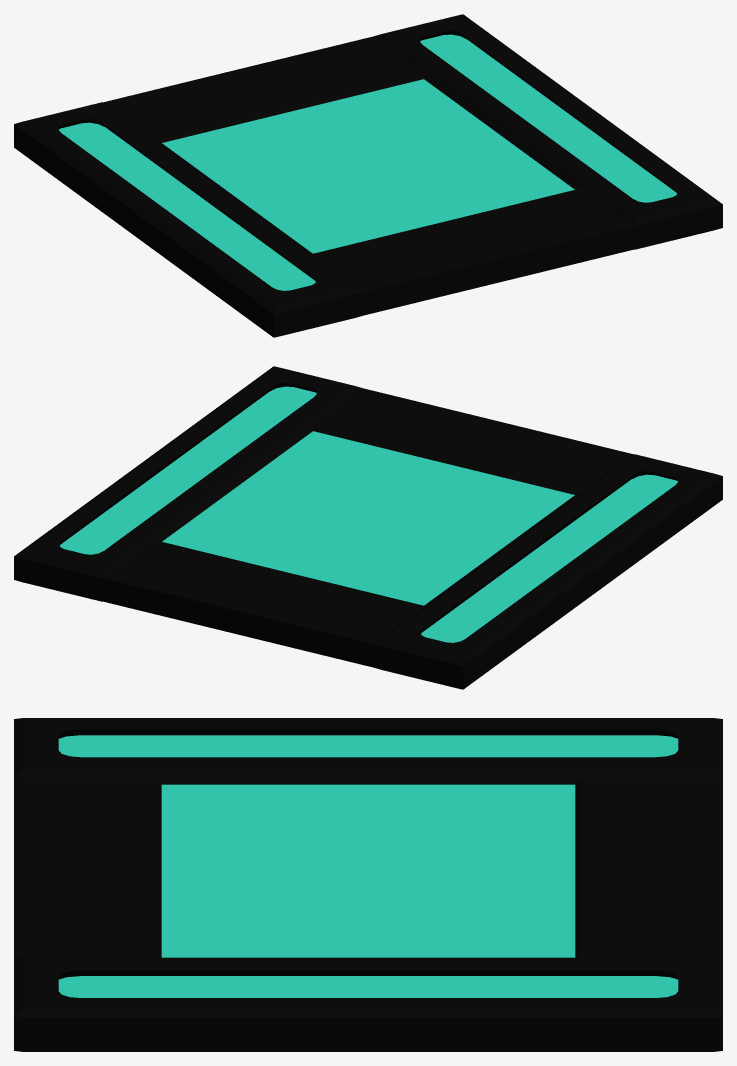
The model's file is stone_floor_4x4.fbx.
The picture shows the model from 3 angles, top to bottom: view 1: azimuth 30°, elevation 25°; view 2: azimuth 150°, elevation 25°; view 3: azimuth 270°, elevation 25°; orthographic projection. The views are drawn at different scales.
Parts seen in each view (by area): view 1: stone_floor_4x4; view 2: stone_floor_4x4; view 3: stone_floor_4x4.
Boxes of the visible parts, bbox=[...] form: stone_floor_4x4: bbox=[14, 14, 722, 337]; stone_floor_4x4: bbox=[14, 366, 722, 689]; stone_floor_4x4: bbox=[14, 718, 722, 1051].
Bounding box in the file's own units: 18.2 × 1.18 × 18.2.
